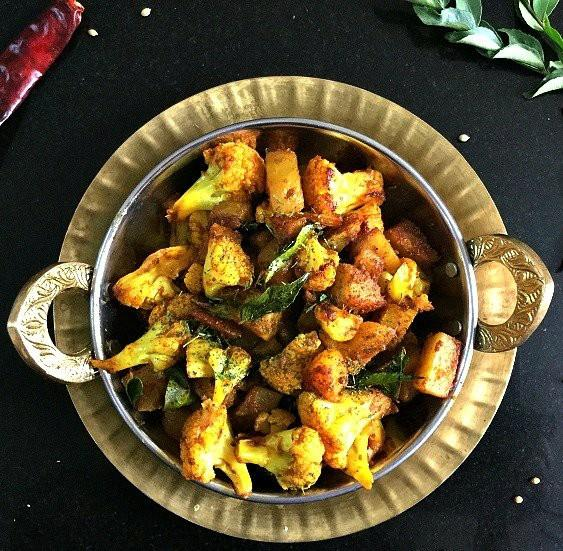AlooGobi: (90, 126, 461, 496)
